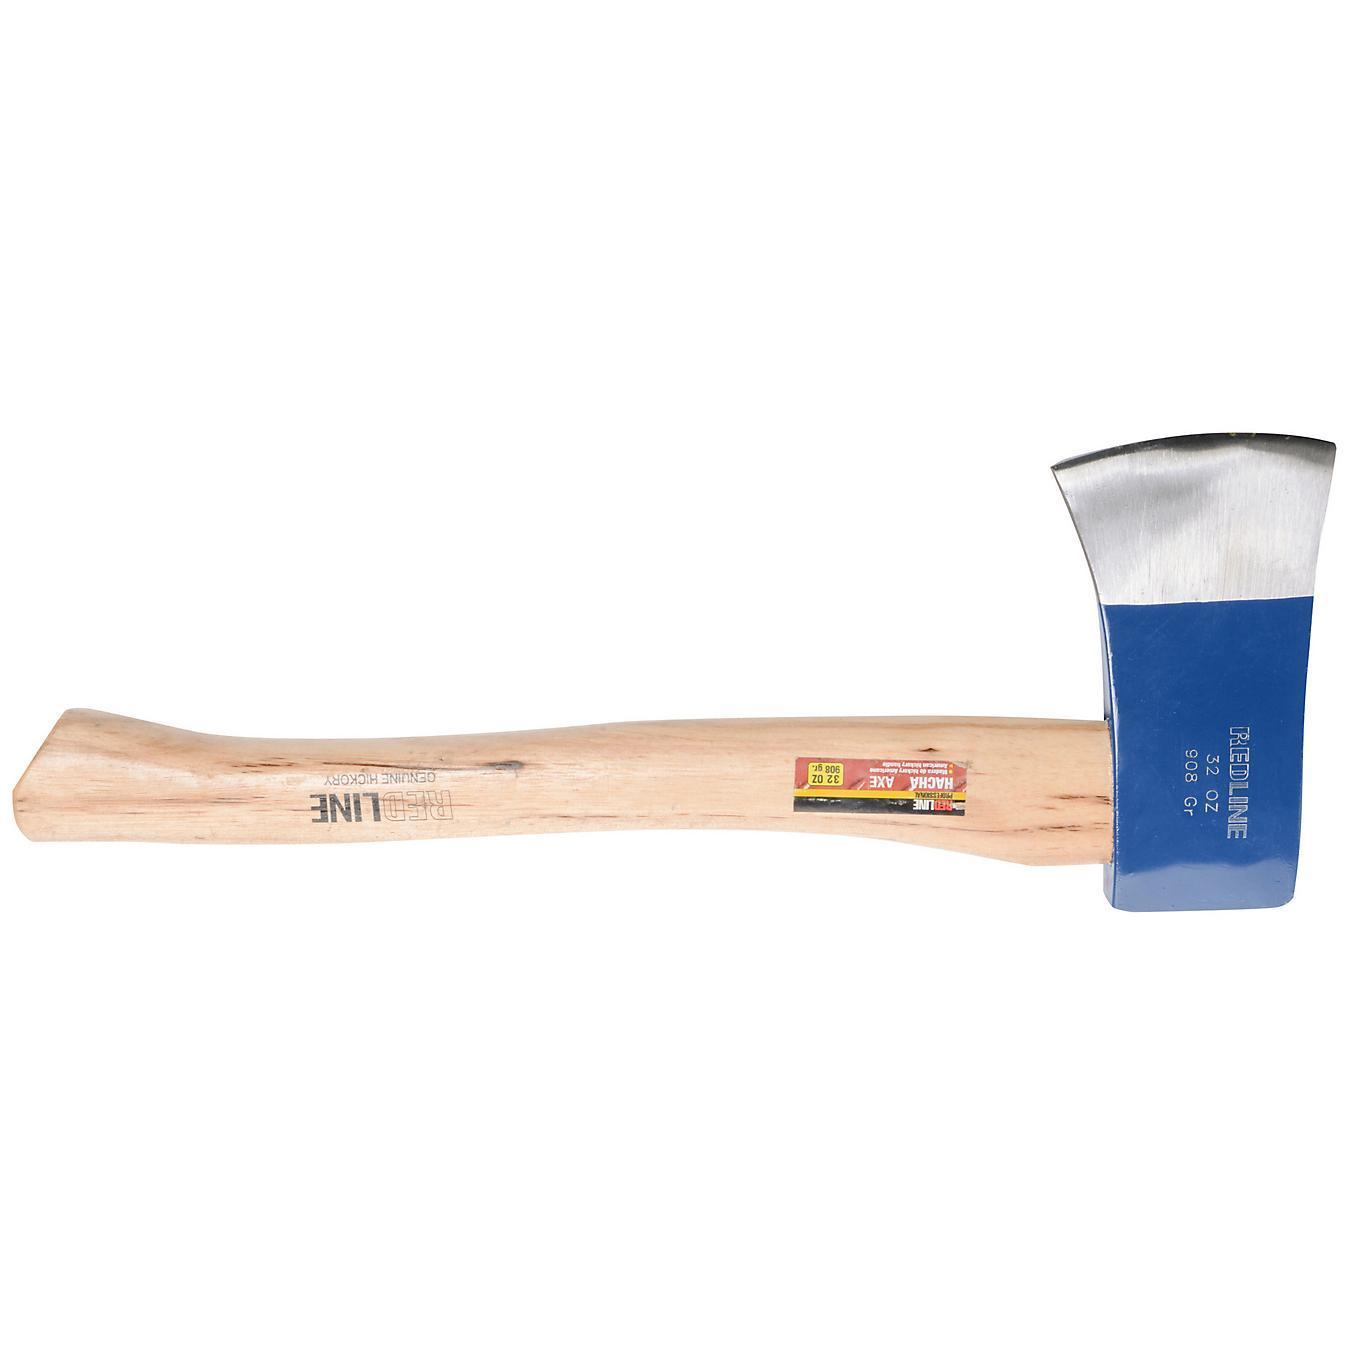machado: (14, 434, 1335, 910)
